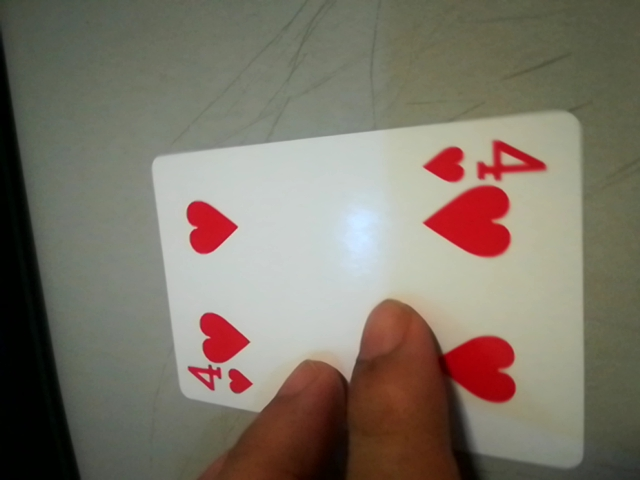hx 4: (410, 137, 556, 188)
